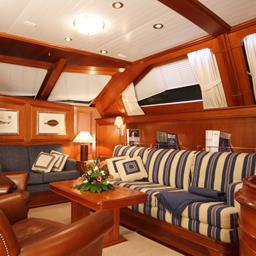Ventana: (137, 68, 222, 100), (54, 70, 102, 109), (2, 58, 46, 99)
